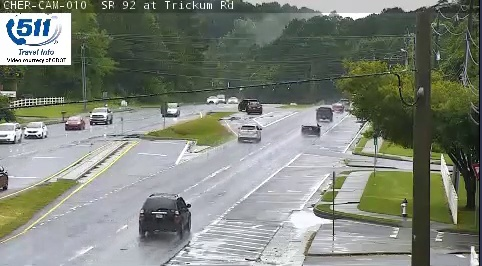car: (138, 193, 192, 233), (237, 125, 260, 141), (301, 122, 321, 137), (315, 106, 332, 120)
